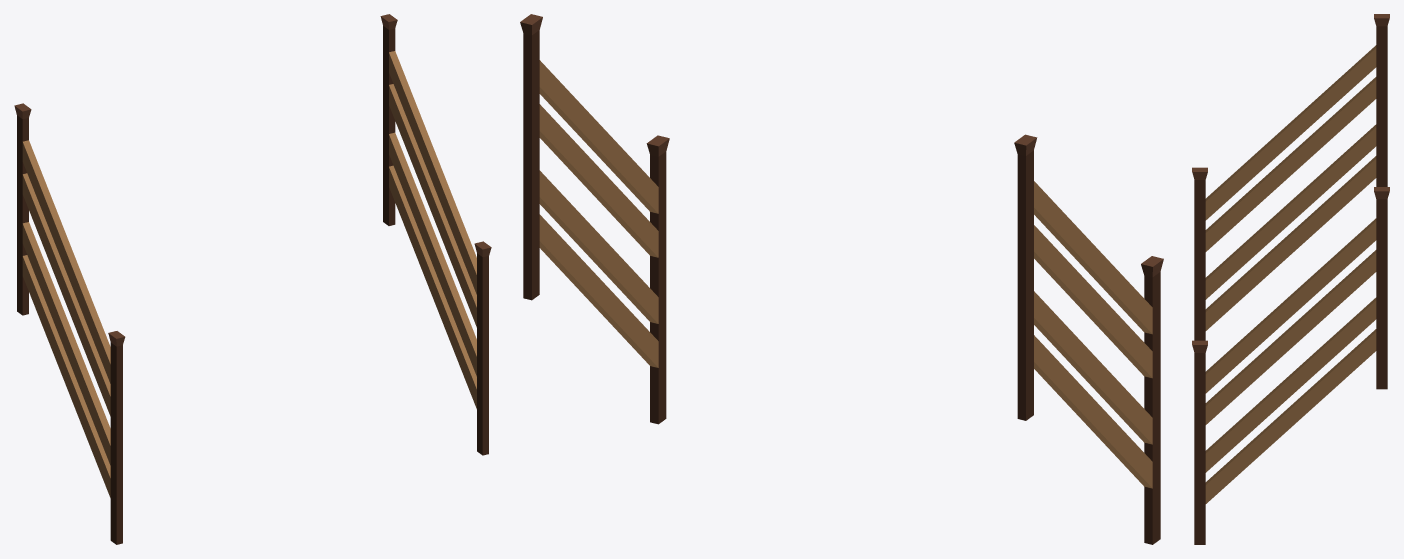
File: StairRailV1W.fbx
3 views of the same model, side by side, from view 1: azimuth 30°, elevation 25°; view 2: azimuth 150°, elevation 25°; view 3: azimuth 270°, elevation 25° (orthographic). The views are drawn at different scales.
Visible parts, largest first — view 1: StairRailV1W; view 2: StairRailV1W; view 3: StairRailV1W.
Boxes of the visible parts, x1,y1,x2,y2 form: StairRailV1W: (14, 14, 491, 544); StairRailV1W: (520, 14, 1163, 544); StairRailV1W: (1192, 14, 1389, 544).
Bounding box in the file's own units: 198 × 185 × 93.32.
